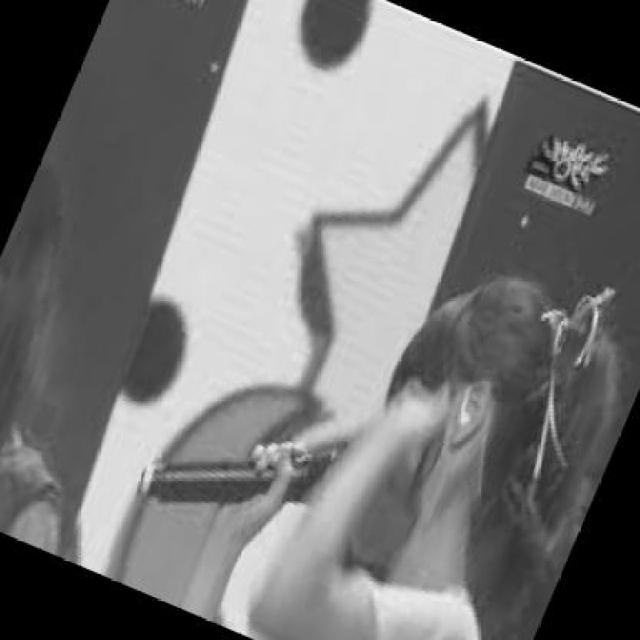earphone: (453, 385, 476, 433)
